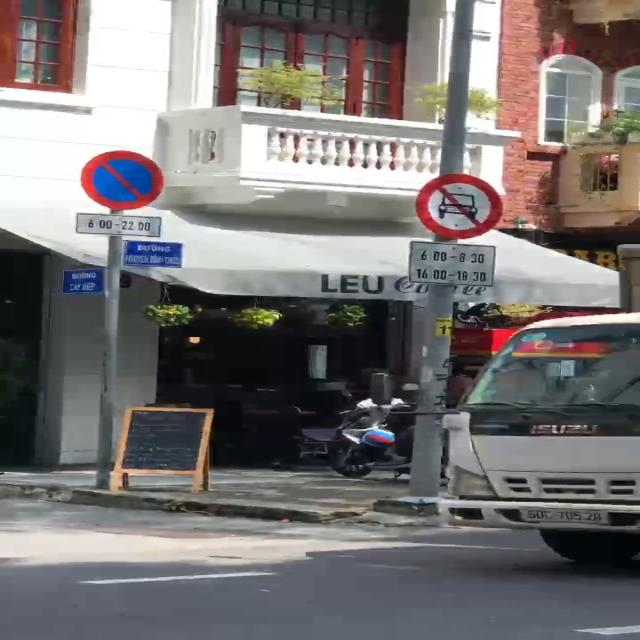Bien bao cam do xe: (82, 146, 170, 211)
Bien bao cam xe oto: (408, 167, 522, 242)
